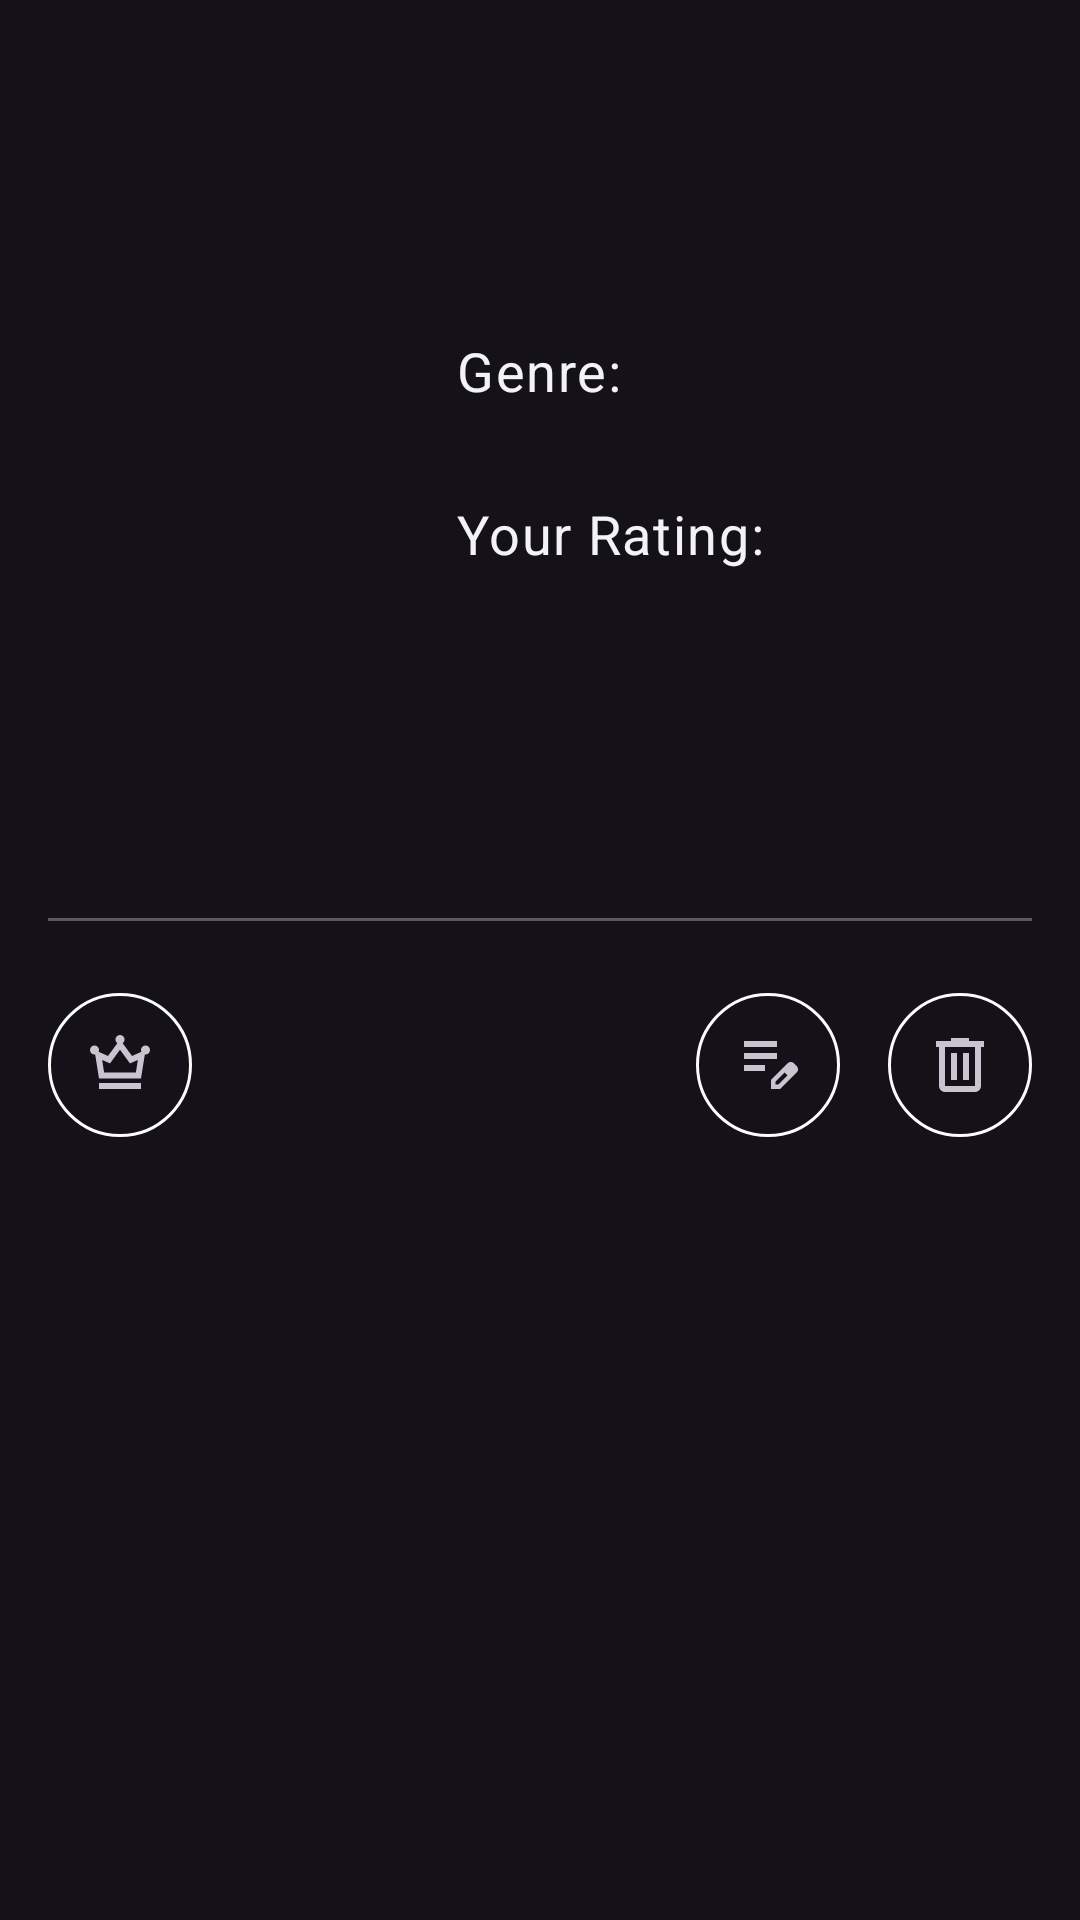

Where to tap for icons on this 1080*1920 app screen, as [x,y]:
Delete: [960,1065]
Edit: [768,1065]
